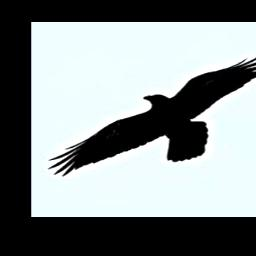Crow: (47, 53, 256, 178)
